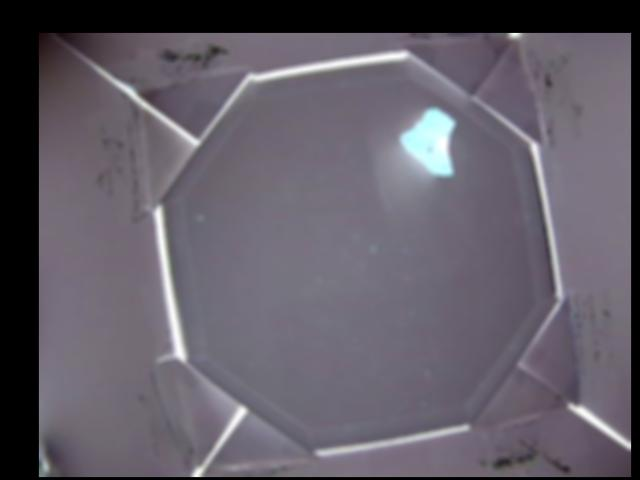Brisk: (399, 108, 454, 176)
